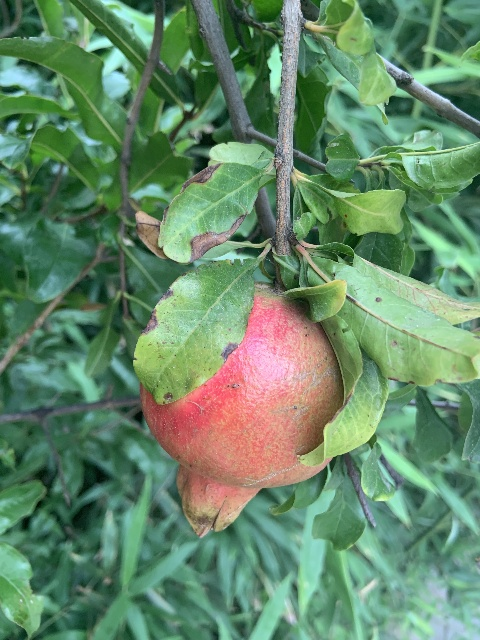ripe: (137, 288, 343, 535)
